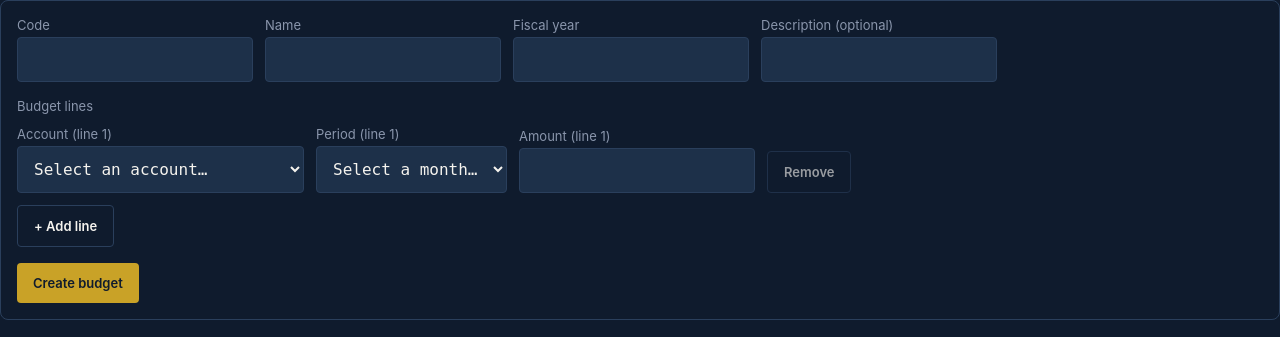
Test: CreateBudgetForm › shows the action-returned error message on failure
Type "BUD-2026-01" into the field labelled "Code" at (135, 60), box [17, 37, 253, 82]
Type "FY2026 Operating Budget" into the field labelled "Name" at (383, 60), box [265, 37, 501, 82]
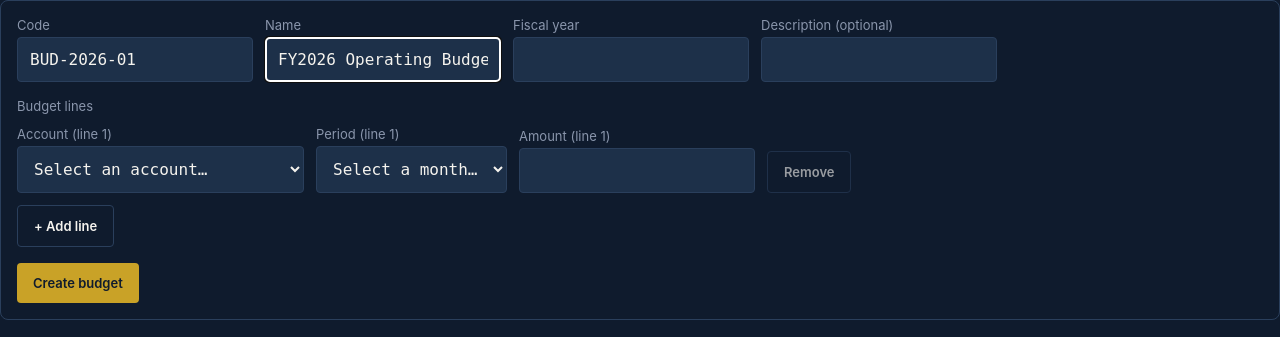
Type "2026" into the number field labelled "Fiscal year" at (631, 60), box [513, 37, 749, 82]
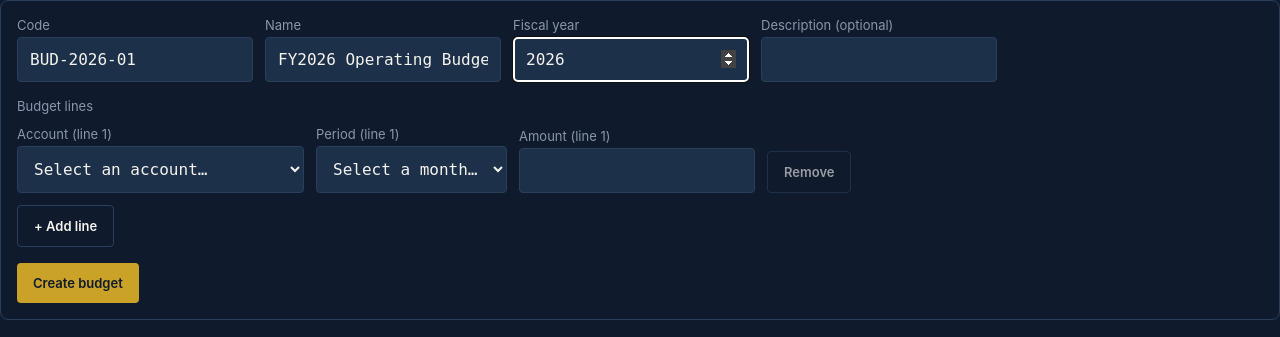
Select "5000 — Construction Costs" in the dropdown labelled "Account (line 1)" at (160, 170), box [17, 146, 304, 193]
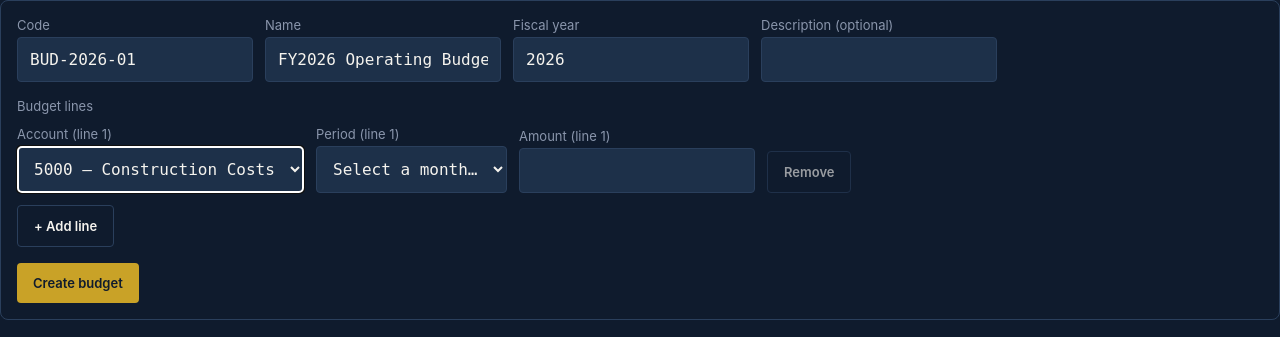
Select "January" in the dropdown labelled "Period (line 1)" at (412, 170), box [316, 146, 507, 193]
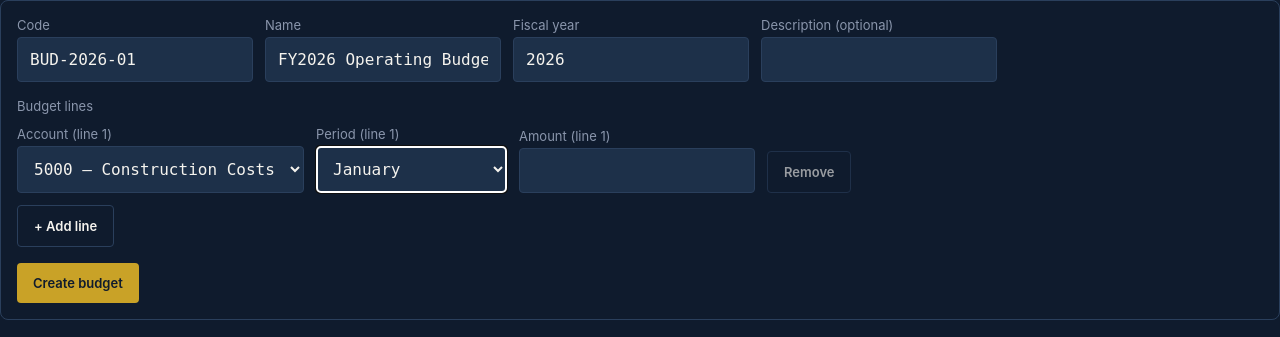
Type "1000" into the number field labelled "Amount (line 1)" at (637, 170), box [519, 148, 755, 193]
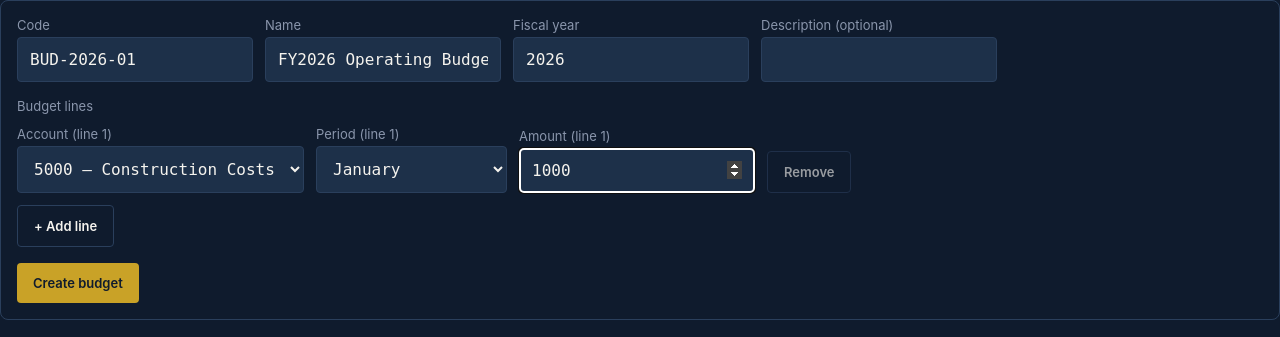
Click the button "Create budget" at (78, 283), box [17, 263, 139, 303]
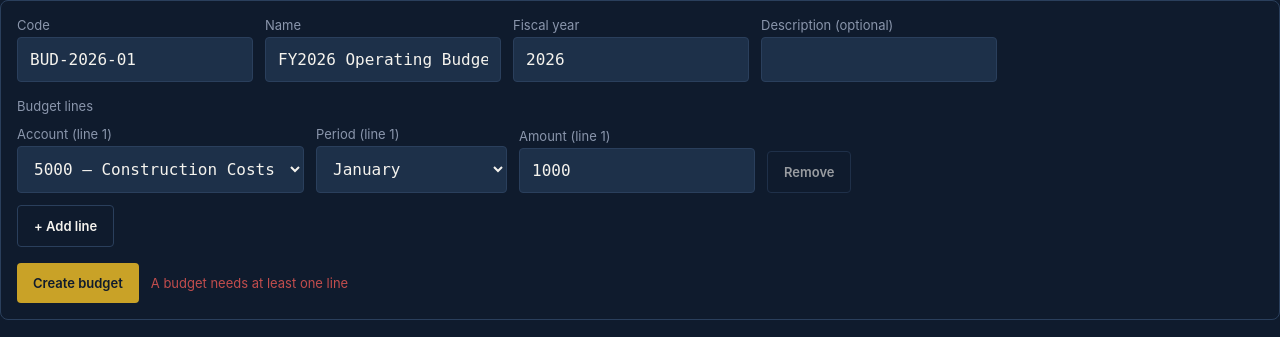
Now the text "A budget needs at least one line" is shown, box [151, 275, 348, 291]
